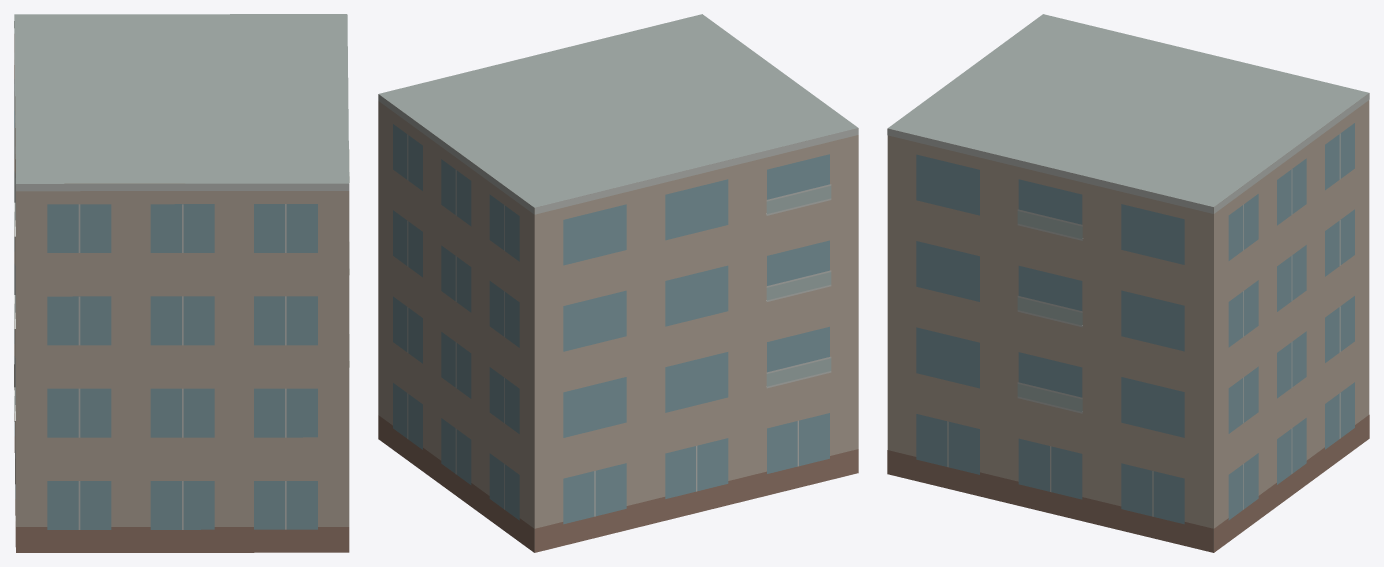
Rendered from survey-upis-32826185.glb.
The picture shows the model from 3 angles, left to right: view 1: azimuth 30°, elevation 25°; view 2: azimuth 150°, elevation 25°; view 3: azimuth 270°, elevation 25°; orthographic projection. The views are drawn at different scales.
Parts seen in each view (by area): view 1: survey-upis-32826185.tmp; view 2: survey-upis-32826185.tmp; view 3: survey-upis-32826185.tmp.
Part boxes in pixels (<box>): survey-upis-32826185.tmp: <box>14,14,349,552</box>; survey-upis-32826185.tmp: <box>378,14,858,552</box>; survey-upis-32826185.tmp: <box>887,14,1369,552</box>.
Bounding box in the file's own units: 14.63 × 12.2 × 15.42.
